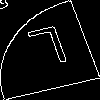L: (25, 25, 74, 77)
